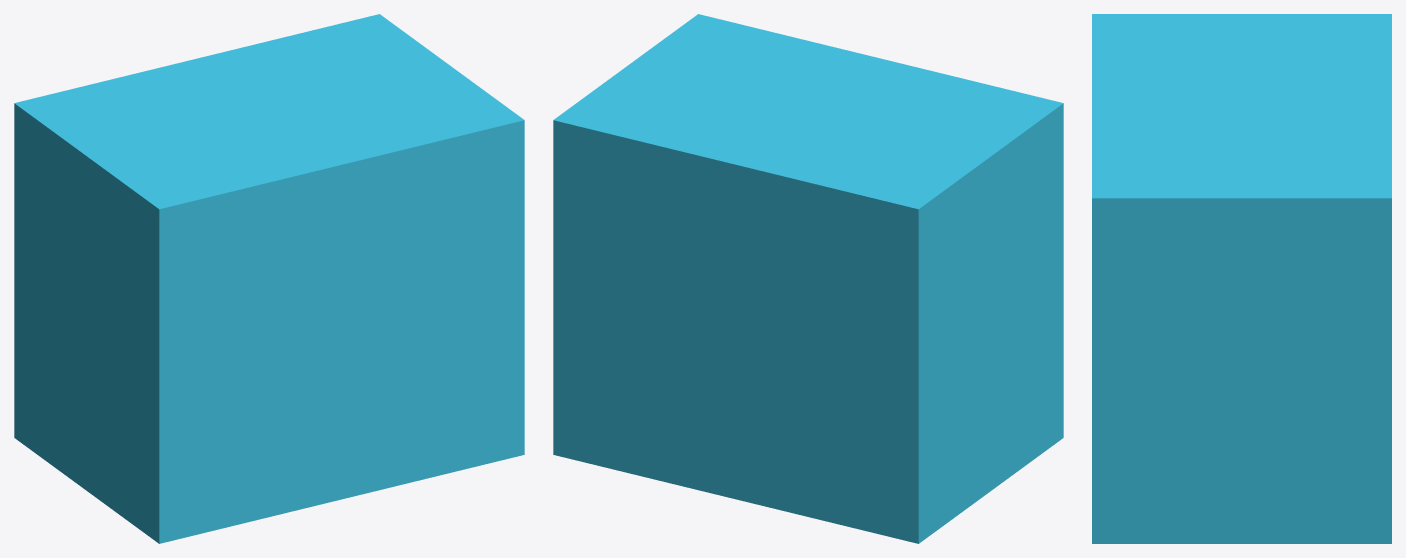
File: pump_CR-3.glb
The picture shows the model from 3 angles, left to right: view 1: azimuth 30°, elevation 25°; view 2: azimuth 150°, elevation 25°; view 3: azimuth 270°, elevation 25°; orthographic projection. The views are drawn at different scales.
Visible parts, largest first — view 1: CR-3; view 2: CR-3; view 3: CR-3.
Boxes of the visible parts, bbox=[...] form: CR-3: bbox=[14, 14, 524, 543]; CR-3: bbox=[553, 14, 1063, 543]; CR-3: bbox=[1092, 14, 1391, 543].
Size of the model in its own units: 192 by 168 by 132.
